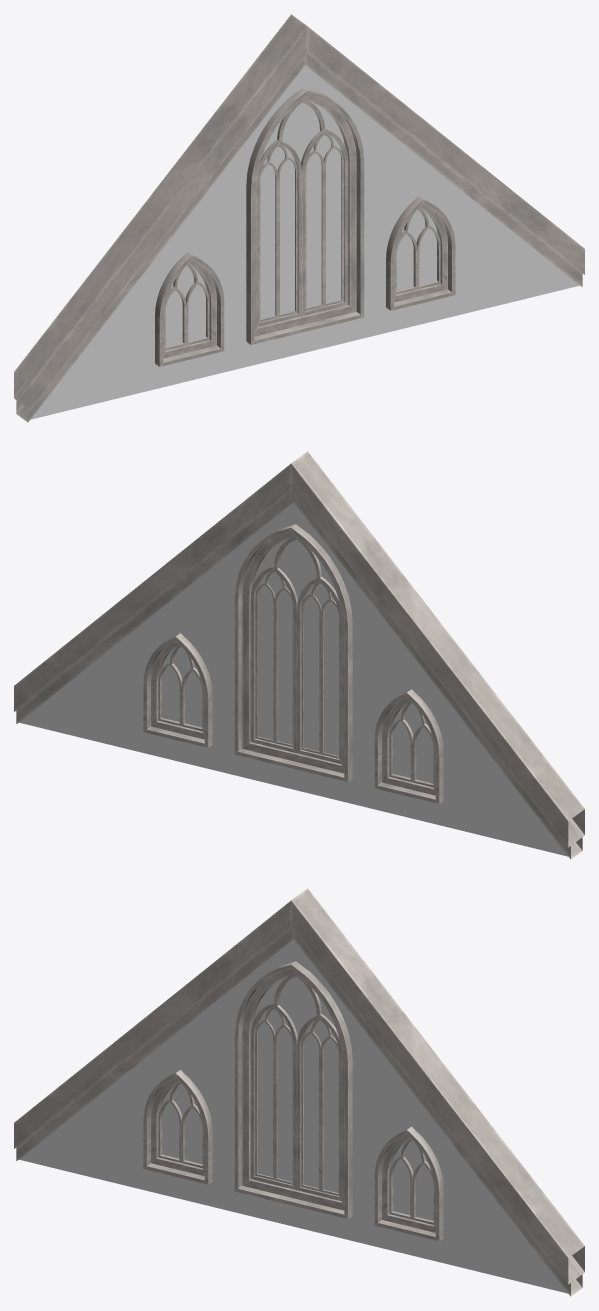
Rendered from Wall_Window_L_C.fbx.
3 views of the same model, one above another, from view 1: azimuth 30°, elevation 25°; view 2: azimuth 150°, elevation 25°; view 3: azimuth 330°, elevation 25° (orthographic).
Parts seen in each view (by area): view 1: Wall_Window_L_C; view 2: Wall_Window_L_C; view 3: Wall_Window_L_C.
Part boxes in pixels (<box>): Wall_Window_L_C: <box>14,14,584,422</box>; Wall_Window_L_C: <box>14,451,584,859</box>; Wall_Window_L_C: <box>14,888,584,1296</box>.
Bounding box in the file's own units: 12 × 0.6193 × 6.83.
